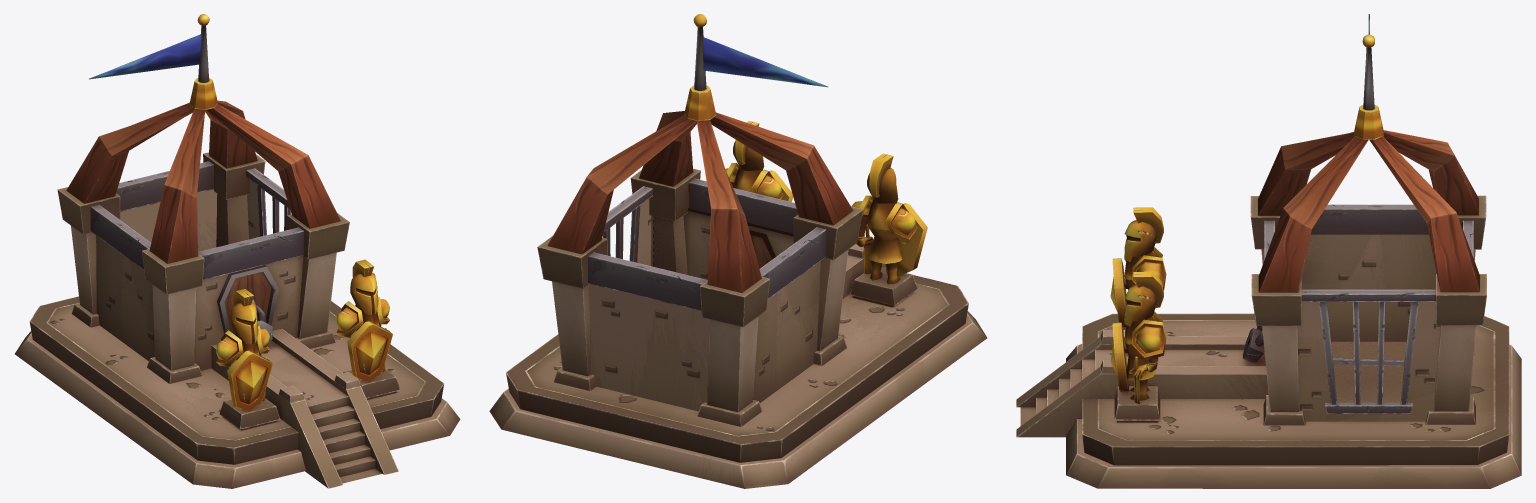
File: Gold_Storage.fbx
3 views of the same model, side by side, from view 1: azimuth 30°, elevation 25°; view 2: azimuth 150°, elevation 25°; view 3: azimuth 270°, elevation 25° (orthographic). The views are drawn at different scales.
Parts seen in each view (by area): view 1: Gold_Storage; view 2: Gold_Storage; view 3: Gold_Storage.
Boxes of the visible parts, box(x1,y1,x2,y2) form: Gold_Storage: box(15, 14, 460, 488); Gold_Storage: box(489, 14, 987, 488); Gold_Storage: box(1016, 14, 1521, 488).
Size of the model in its own units: 8.35 by 10.38 by 12.4.
